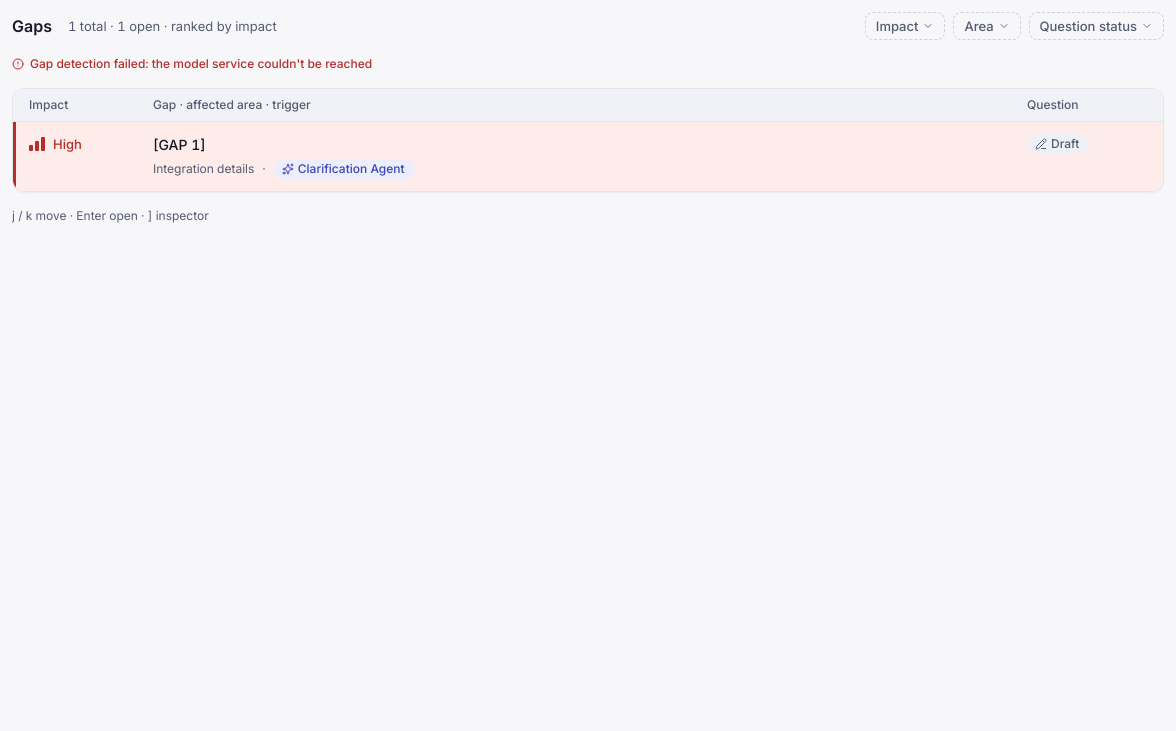
Test: GapsSection › a sales representative sees the same Gaps, read-only, and no Retry
The image size is (1176, 731).
Expected: the text "Gap detection failed: the model service couldn't be reached" is shown, [12, 56, 372, 72]
Click the button "[GAP 1]" at coordinates (179, 144), box [153, 134, 206, 155]
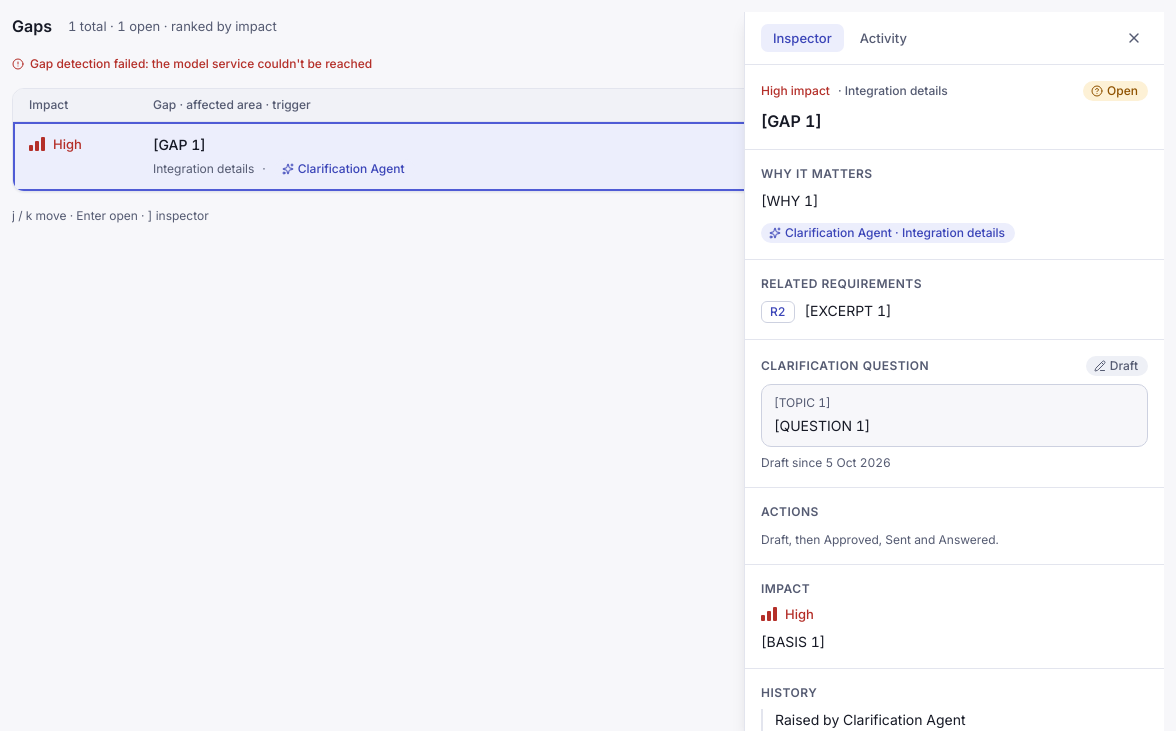
Expected: the text "[QUESTION 1]" is shown, [774, 417, 870, 434]
